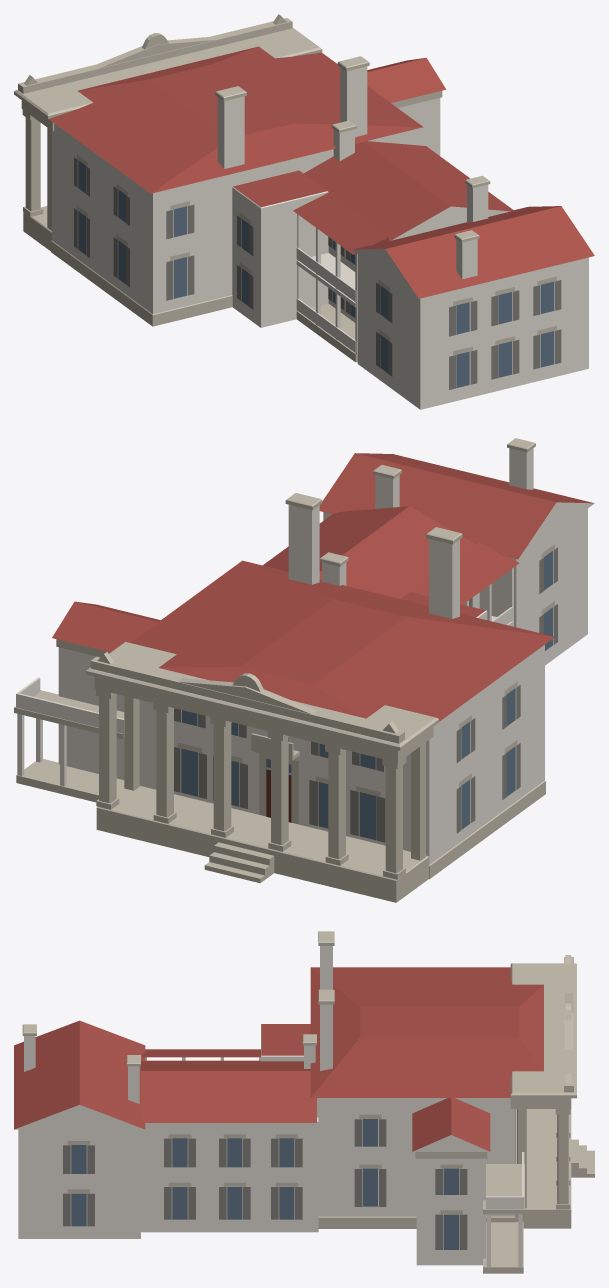
Rendered from nash-belle-meade.glb.
3 views of the same model, one above another, from view 1: azimuth 30°, elevation 25°; view 2: azimuth 150°, elevation 25°; view 3: azimuth 270°, elevation 25° (orthographic). The views are drawn at different scales.
Parts seen in each view (by area): view 1: Belle Meade Plantation; view 2: Belle Meade Plantation; view 3: Belle Meade Plantation.
Boxes of the visible parts, x1,y1,x2,y2 form: Belle Meade Plantation: (14,14,594,409); Belle Meade Plantation: (14,438,594,902); Belle Meade Plantation: (14,931,594,1273).
Bounding box in the file's own units: 28.5 × 15.8 × 40.25.
